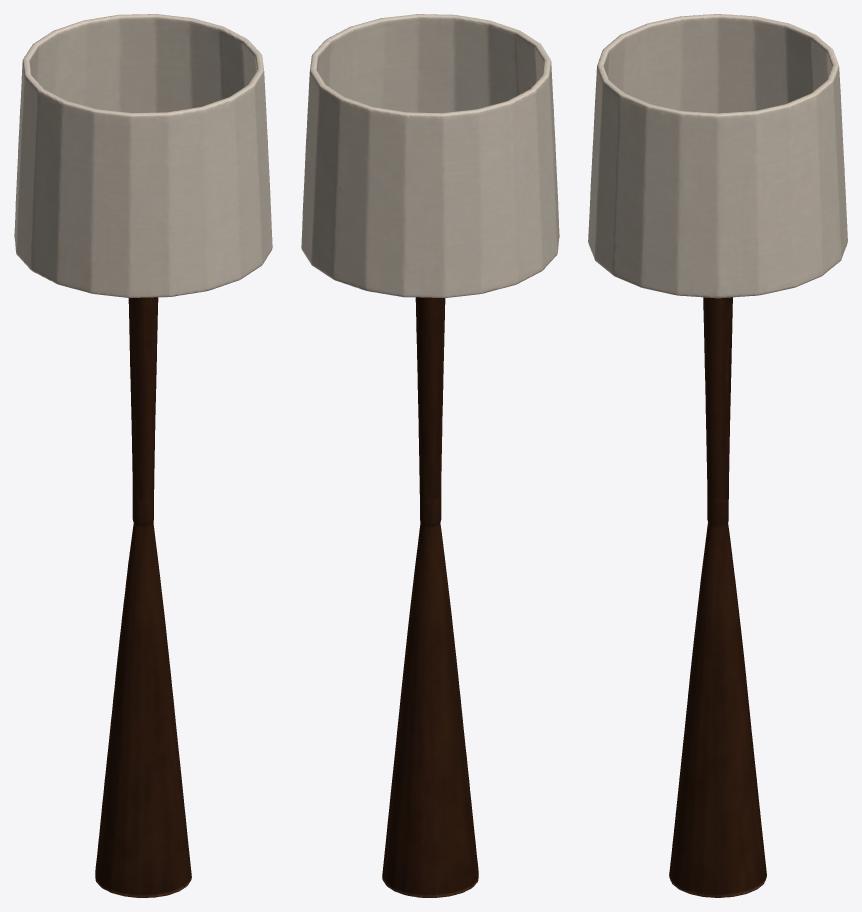
File: uploaded-floor-lamp.glb
3 renders of one model, left to right at view 1: azimuth 30°, elevation 25°; view 2: azimuth 150°, elevation 25°; view 3: azimuth 270°, elevation 25°, orthographic.
Visible parts, largest first — view 1: world; view 2: world; view 3: world.
Part boxes in pixels (left/top/right/bottom): world: left=14, top=14, right=272, bottom=897; world: left=301, top=14, right=559, bottom=897; world: left=588, top=14, right=847, bottom=897.
Bounding box in the file's own units: 0.2901 × 1 × 0.2905.
Materials: 1 (1 with a texture image).
